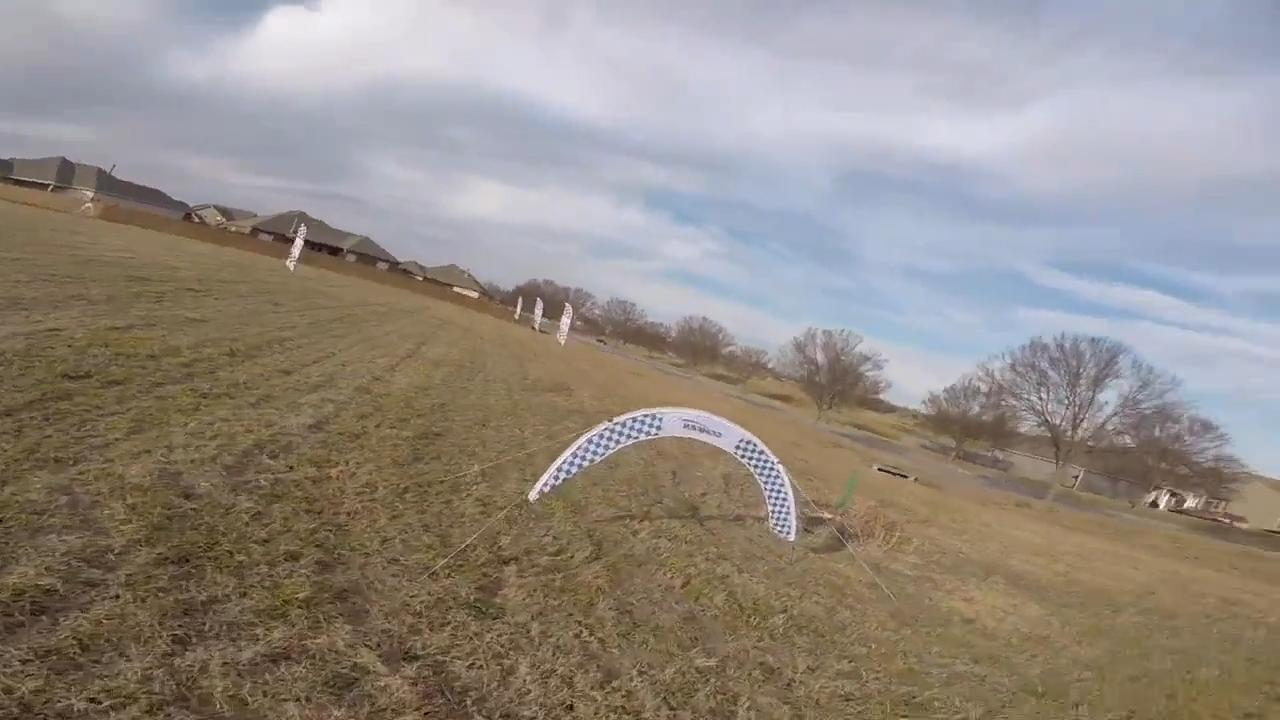gate: (528, 403, 795, 543)
